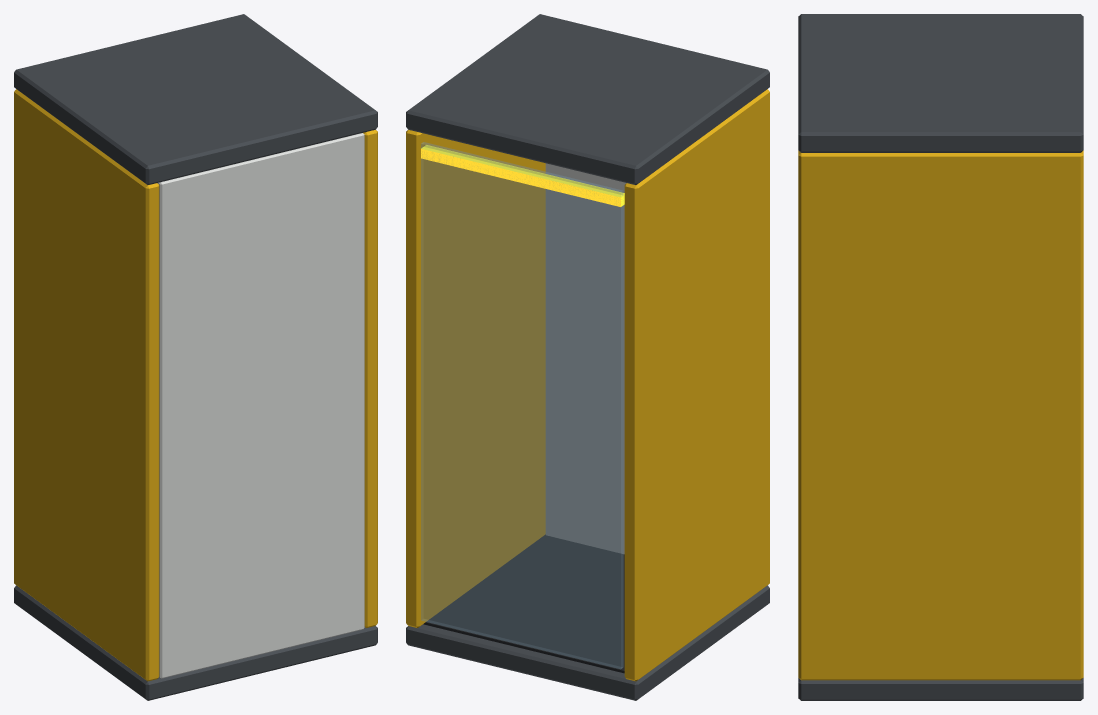
Rendered from decon_shower.glb.
The picture shows the model from 3 angles, left to right: view 1: azimuth 30°, elevation 25°; view 2: azimuth 150°, elevation 25°; view 3: azimuth 270°, elevation 25°; orthographic projection. The views are drawn at different scales.
Visible parts, largest first — view 1: decon_shower; view 2: decon_shower; view 3: decon_shower.
Boxes of the visible parts, box(x1,y1,x2,y2) form: decon_shower: box(14, 14, 377, 700); decon_shower: box(406, 14, 769, 700); decon_shower: box(798, 14, 1083, 700).
Bounding box in the file's own units: 1 × 2.2 × 1.
